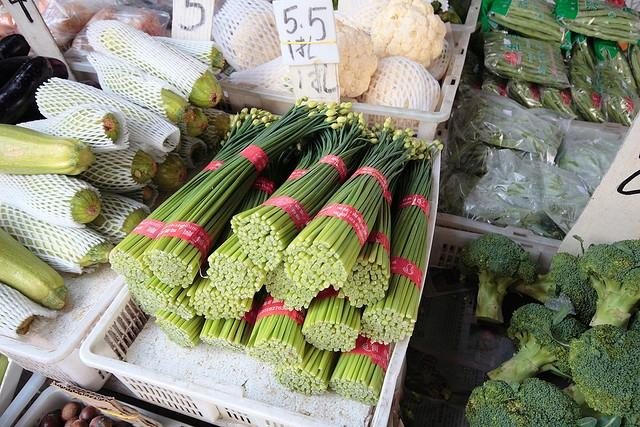broccoli: (487, 303, 592, 385), (562, 324, 638, 420), (458, 233, 538, 324), (465, 377, 597, 426), (518, 252, 598, 326), (578, 239, 640, 330), (627, 311, 640, 334)
cauliflower: (370, 0, 446, 69), (334, 19, 378, 98), (230, 9, 282, 72), (349, 0, 389, 34), (426, 37, 452, 80), (259, 64, 291, 91)
green bean: (482, 32, 572, 90), (494, 13, 562, 40), (566, 21, 640, 40), (566, 26, 638, 44), (563, 16, 640, 28), (509, 6, 558, 24), (506, 14, 560, 30), (608, 90, 636, 116), (576, 95, 600, 123), (521, 47, 561, 62), (582, 40, 597, 74), (555, 92, 577, 114), (550, 89, 570, 113), (576, 76, 594, 94), (631, 47, 640, 82), (622, 57, 631, 91), (462, 73, 478, 81), (600, 70, 617, 76), (522, 89, 530, 98), (492, 88, 501, 95), (486, 128, 501, 132), (546, 88, 560, 92), (637, 50, 640, 65), (614, 56, 617, 70), (550, 185, 558, 190), (568, 153, 578, 157), (614, 7, 622, 11), (600, 82, 604, 90)
green onion: (148, 109, 338, 254), (160, 136, 292, 256), (330, 154, 411, 254), (376, 176, 430, 312), (276, 174, 340, 235), (399, 217, 428, 319), (124, 206, 180, 254), (253, 315, 269, 348), (131, 240, 154, 261), (346, 353, 361, 382), (188, 318, 206, 342), (306, 298, 319, 328), (277, 233, 298, 251), (355, 356, 368, 384), (282, 317, 294, 346), (178, 314, 198, 331), (167, 239, 183, 260), (356, 241, 369, 263), (340, 300, 350, 328), (240, 322, 251, 346), (318, 350, 330, 371), (218, 318, 229, 340), (202, 318, 214, 338), (293, 334, 304, 355), (211, 322, 220, 341), (170, 314, 182, 326), (161, 310, 172, 320), (176, 296, 186, 306), (164, 312, 174, 322), (303, 253, 313, 262), (165, 288, 174, 298), (364, 272, 370, 286), (296, 240, 306, 248), (262, 224, 272, 232), (329, 324, 336, 334), (366, 262, 372, 272), (138, 264, 148, 270), (260, 230, 272, 235), (183, 304, 190, 312), (282, 286, 289, 294), (364, 270, 370, 279), (265, 234, 271, 243), (306, 246, 312, 255), (391, 323, 398, 330), (382, 318, 388, 326), (311, 264, 317, 272), (242, 278, 250, 284), (248, 231, 256, 237), (284, 284, 292, 290), (302, 382, 308, 390), (226, 285, 233, 291), (299, 375, 306, 381), (322, 256, 329, 262), (225, 279, 232, 285), (222, 257, 228, 264), (204, 302, 212, 307), (354, 381, 362, 386), (392, 314, 398, 320), (370, 269, 376, 275), (370, 292, 376, 298), (284, 350, 290, 356), (160, 265, 166, 271), (310, 376, 315, 383), (139, 281, 144, 288), (163, 270, 171, 274), (352, 266, 357, 272), (150, 299, 156, 304), (249, 248, 254, 254), (212, 273, 218, 278), (334, 284, 339, 290), (305, 376, 310, 382), (228, 272, 233, 277), (173, 270, 178, 275), (164, 277, 169, 282), (212, 300, 218, 304), (126, 260, 132, 264), (244, 240, 248, 246), (162, 301, 168, 305), (310, 336, 316, 340), (273, 340, 279, 344), (248, 234, 252, 240), (326, 332, 332, 336), (292, 286, 296, 291), (339, 338, 344, 342), (367, 330, 372, 334), (136, 273, 142, 276), (184, 315, 189, 318), (172, 333, 176, 336), (153, 298, 157, 300), (223, 344, 227, 346), (353, 399, 357, 401), (132, 272, 136, 274), (172, 340, 174, 342)
vegetable marrow: (88, 50, 195, 123), (0, 228, 68, 310), (0, 174, 102, 228), (0, 123, 97, 175), (92, 197, 148, 239), (59, 109, 121, 145), (151, 154, 187, 190), (120, 150, 157, 184), (189, 71, 223, 108), (73, 237, 114, 267), (183, 108, 208, 137), (208, 113, 232, 141), (196, 47, 223, 71), (16, 314, 35, 334), (130, 186, 152, 202), (190, 144, 205, 164)
